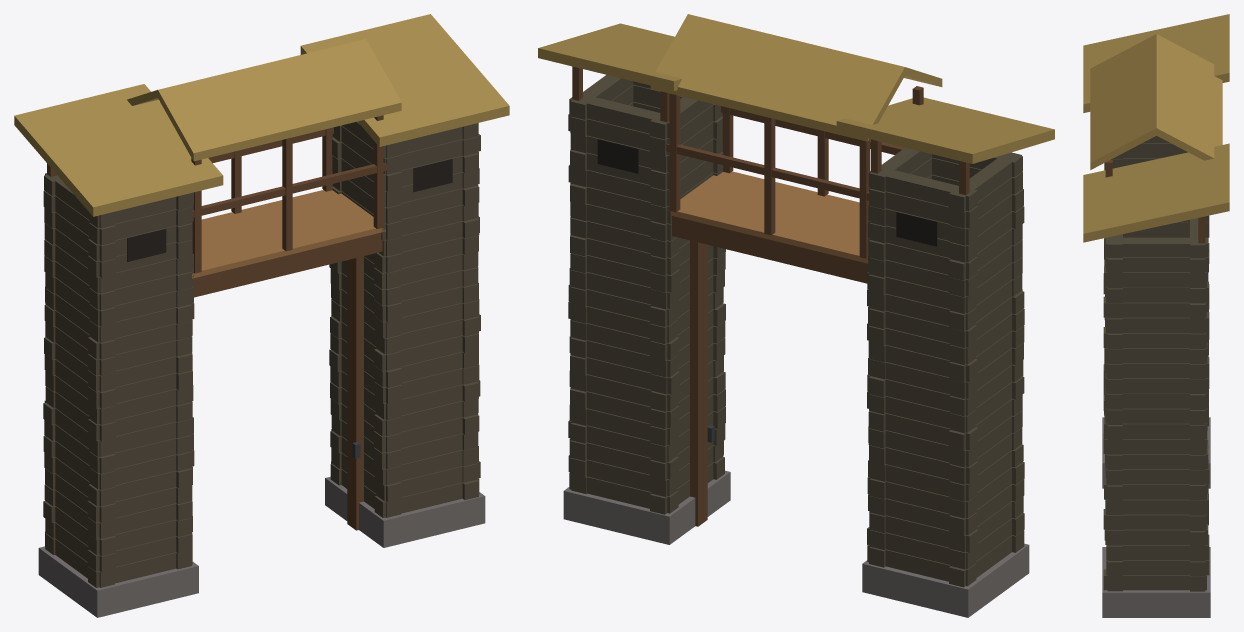
File: Waygate.fbx
The picture shows the model from 3 angles, left to right: view 1: azimuth 30°, elevation 25°; view 2: azimuth 150°, elevation 25°; view 3: azimuth 270°, elevation 25°; orthographic projection. The views are drawn at different scales.
Visible parts, largest first — view 1: Waygate; view 2: Waygate; view 3: Waygate.
Boxes of the visible parts, <box> form: Waygate: <box>14,14,509,617</box>; Waygate: <box>538,14,1054,617</box>; Waygate: <box>1083,14,1229,617</box>.
Size of the model in its own units: 6.4 by 7.12 by 2.1.
